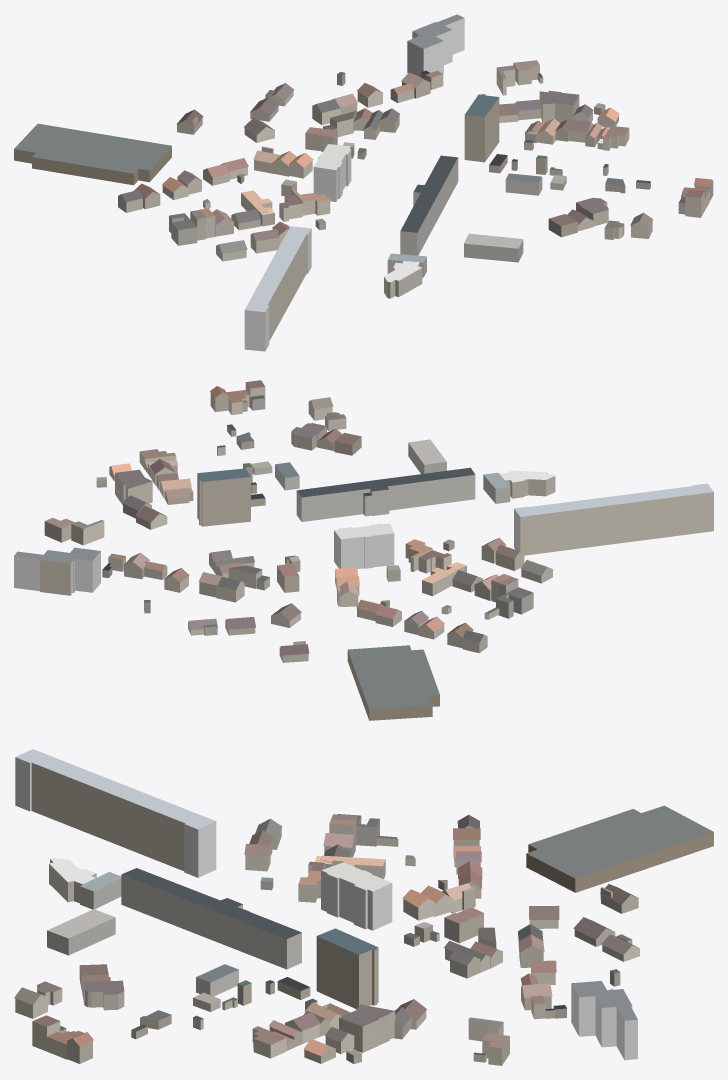
3 renders of one model, top to bottom at view 1: azimuth 30°, elevation 25°; view 2: azimuth 150°, elevation 25°; view 3: azimuth 270°, elevation 25°, orthographic. The views are drawn at different scales.
Visible parts, largest first — view 1: tuile; view 2: tuile; view 3: tuile.
Part boxes in pixels (left/top/right/bottom): tuile: left=14, top=14, right=713, bottom=351; tuile: left=14, top=380, right=713, bottom=720; tuile: left=14, top=749, right=713, bottom=1065.
Bounding box in the file's own units: 291 × 37.38 × 291.
